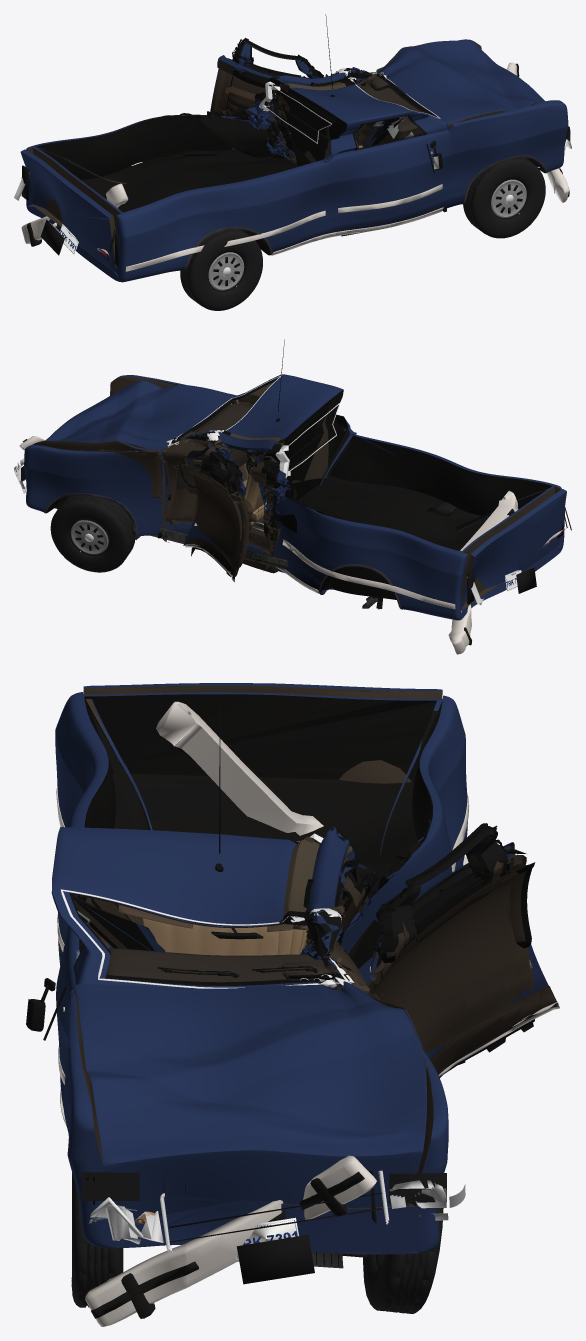
File: pickup87_side_d3_lod1.glb
3 renders of one model, top to bottom at view 1: azimuth 30°, elevation 25°; view 2: azimuth 150°, elevation 25°; view 3: azimuth 270°, elevation 25°, orthographic. The views are drawn at different scales.
Visible parts, largest first — view 1: Body, Hood, Wheel_FR_mesh, Wheel_RR_mesh, Tailgate, Door_FR, Door_FL, Trim, Trim_FR, Interior, Ends, Glass (+4 smaller); view 2: Body, Hood, Wheel_FL_mesh, Tailgate, Door_FL, Interior, Trim, Bumper_R, Ends, Glass, Underbody, Trim_FL (+1 smaller); view 3: Body, Hood, Door_FL, Ends, Bumper_F, Interior, Bumper_R, Tailgate, Wheel_FL_mesh, Glass_FL, Trim_FL, Glass (+4 smaller).
Boxes of the visible parts, left/top/right/bottom form: Body: left=26, top=39, right=568, bottom=282; Hood: left=377, top=40, right=545, bottom=129; Wheel_FR_mesh: left=463, top=157, right=545, bottom=238; Wheel_RR_mesh: left=180, top=229, right=262, bottom=310; Tailgate: left=20, top=149, right=116, bottom=272; Door_FR: left=334, top=116, right=446, bottom=230; Door_FL: left=210, top=40, right=324, bottom=115; Trim: left=125, top=14, right=547, bottom=271; Trim_FR: left=334, top=114, right=443, bottom=236; Interior: left=356, top=73, right=421, bottom=148; Ends: left=14, top=126, right=571, bottom=265; Glass: left=259, top=68, right=440, bottom=143; Body: left=24, top=374, right=564, bottom=620; Hood: left=32, top=380, right=235, bottom=454; Wheel_FL_mesh: left=50, top=495, right=135, bottom=572; Tailgate: left=461, top=489, right=566, bottom=609; Door_FL: left=183, top=451, right=249, bottom=578; Interior: left=173, top=403, right=266, bottom=524; Trim: left=44, top=339, right=487, bottom=609; Bumper_R: left=448, top=490, right=518, bottom=654; Ends: left=14, top=458, right=571, bottom=604; Glass: left=166, top=375, right=339, bottom=478; Underbody: left=133, top=518, right=483, bottom=609; Trim_FL: left=185, top=451, right=252, bottom=581; Body: left=51, top=692, right=467, bottom=1254; Hood: left=74, top=981, right=426, bottom=1218; Door_FL: left=369, top=823, right=558, bottom=1074; Ends: left=81, top=1170, right=465, bottom=1284; Bumper_F: left=85, top=1155, right=376, bottom=1326; Interior: left=106, top=904, right=341, bottom=982; Bumper_R: left=156, top=701, right=468, bottom=865; Tailgate: left=83, top=683, right=442, bottom=783; Wheel_FL_mesh: left=363, top=1208, right=443, bottom=1313; Glass_FL: left=374, top=828, right=507, bottom=951; Trim_FL: left=367, top=825, right=559, bottom=1077; Glass: left=60, top=833, right=353, bottom=988.
Size of the model in its own units: 5.16 by 2.36 by 2.45.
Materials: 34 (5 with a texture image).
